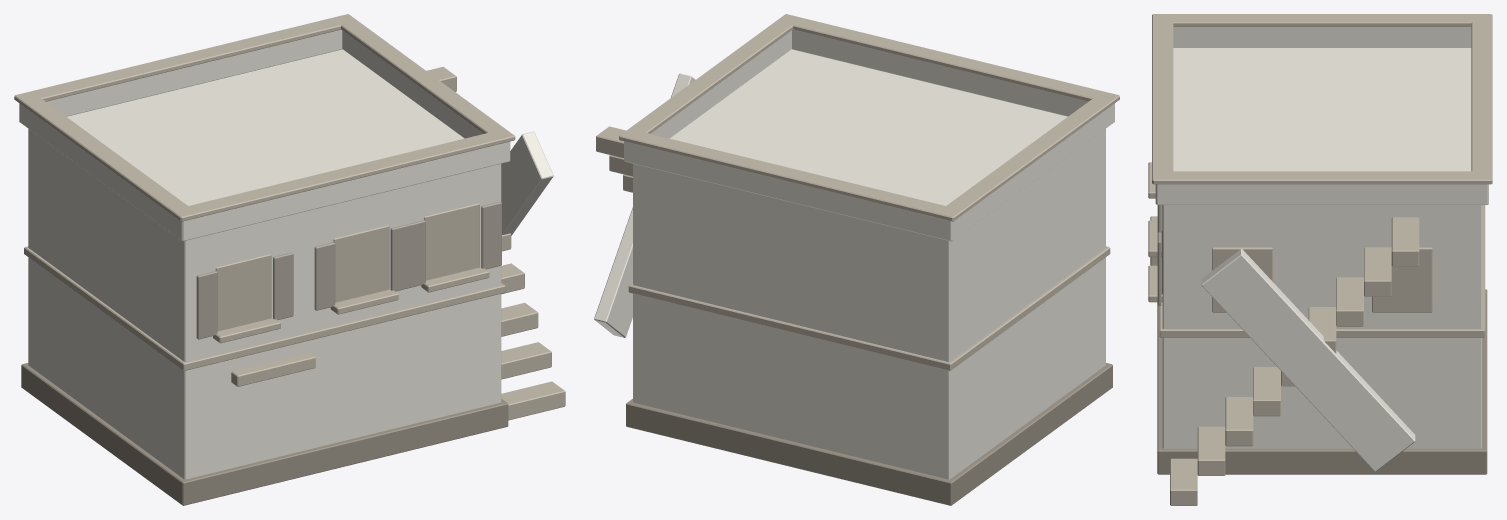
The model's file is TC_ENV_StoneHouse_V1.gltf.
The picture shows the model from 3 angles, left to right: view 1: azimuth 30°, elevation 25°; view 2: azimuth 150°, elevation 25°; view 3: azimuth 270°, elevation 25°; orthographic projection.
Visible parts, largest first — view 1: TC_ENV_StoneHouse_V1; view 2: TC_ENV_StoneHouse_V1; view 3: TC_ENV_StoneHouse_V1.
Boxes of the visible parts, <box> form: TC_ENV_StoneHouse_V1: <box>14,14,565,505</box>; TC_ENV_StoneHouse_V1: <box>594,14,1119,505</box>; TC_ENV_StoneHouse_V1: <box>1148,14,1492,505</box>.
Bounding box in the file's own units: 8.78 × 6.16 × 6.47.
